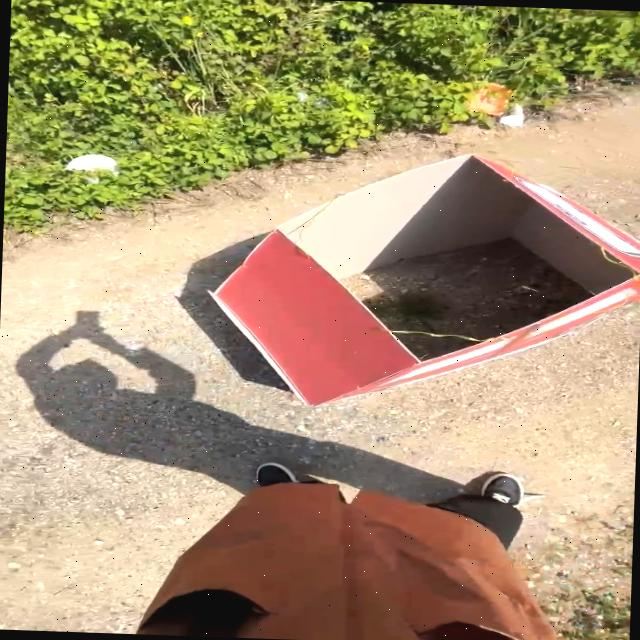red_car: (154, 120, 640, 447)
